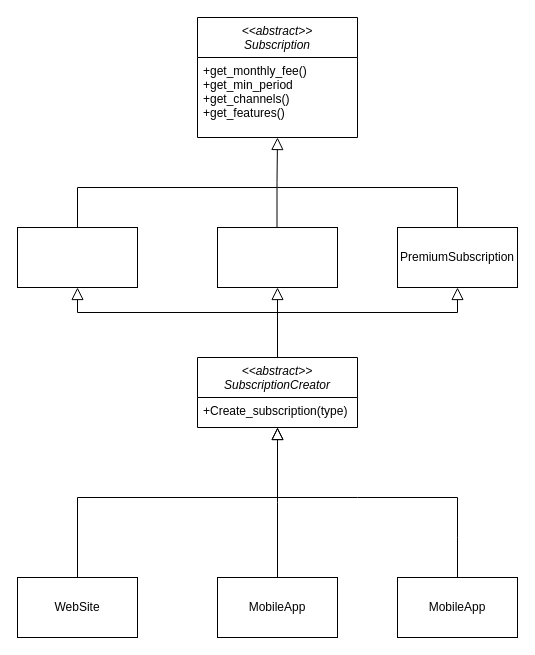
Image size: 535x655. Some labels were removed from this diagram. Here are the shapes that lost their labels. From the top down, the centre of each, then its label:
At [77,257]: "DomesticSubscription".
At [277,257]: "EducationSubscription".
